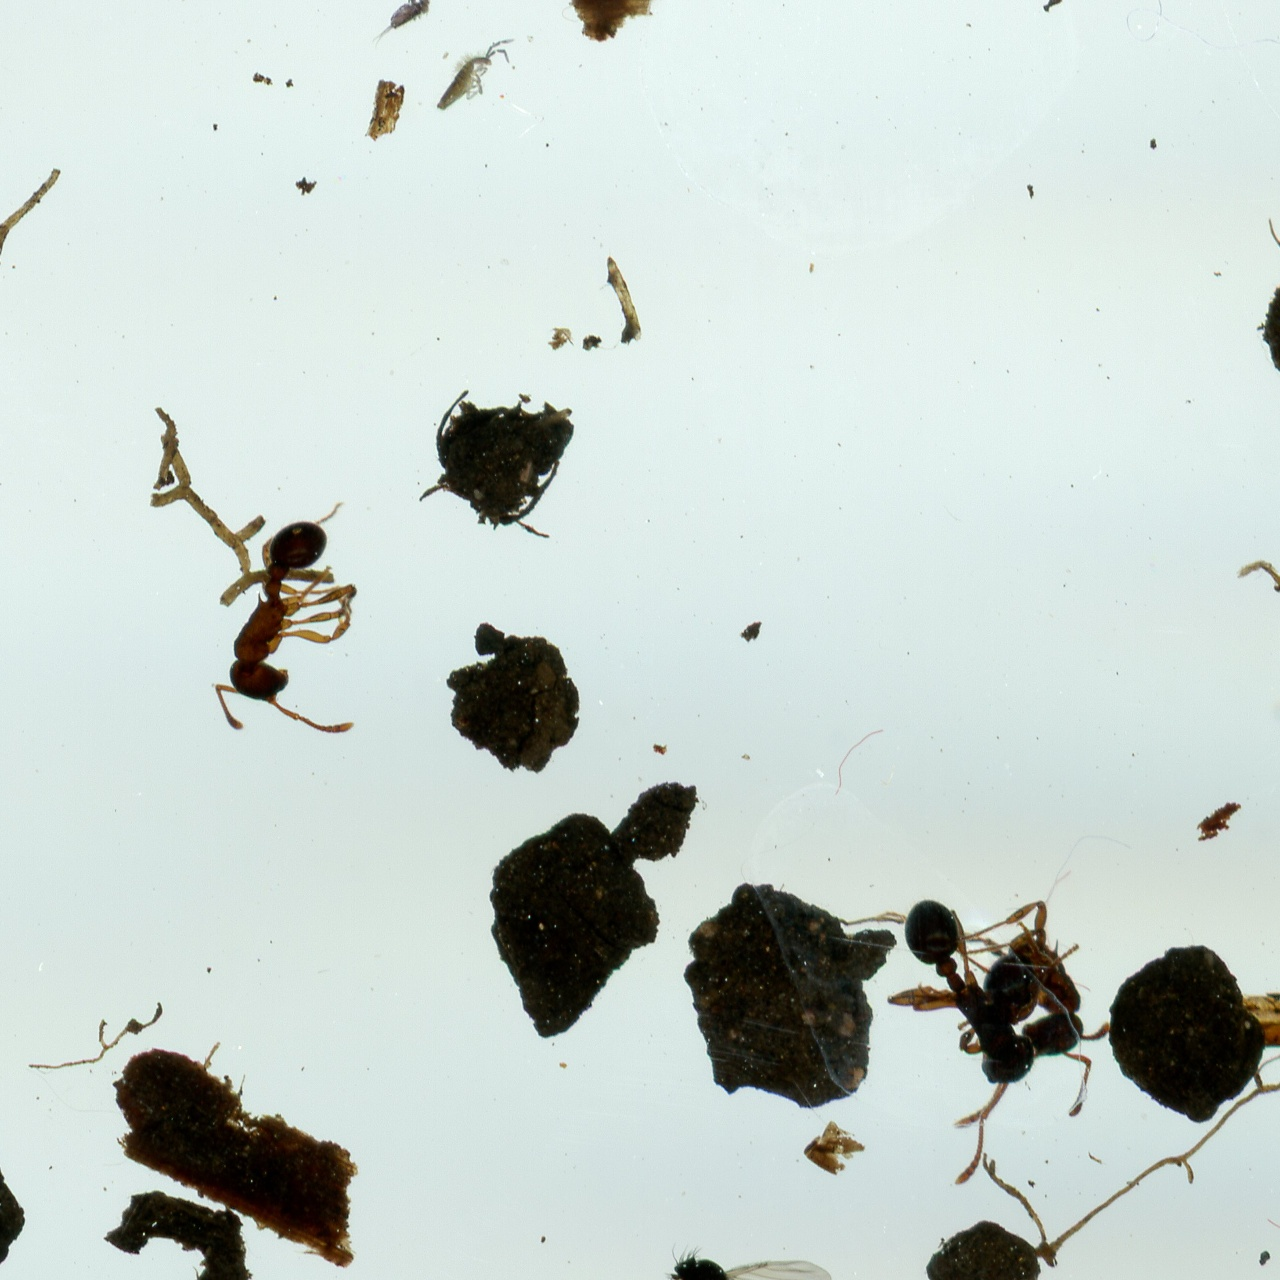arthropod: (832, 811, 1160, 1177), (823, 876, 1091, 1196), (205, 497, 366, 744), (415, 12, 531, 147), (648, 1237, 837, 1280), (360, 0, 455, 63)
